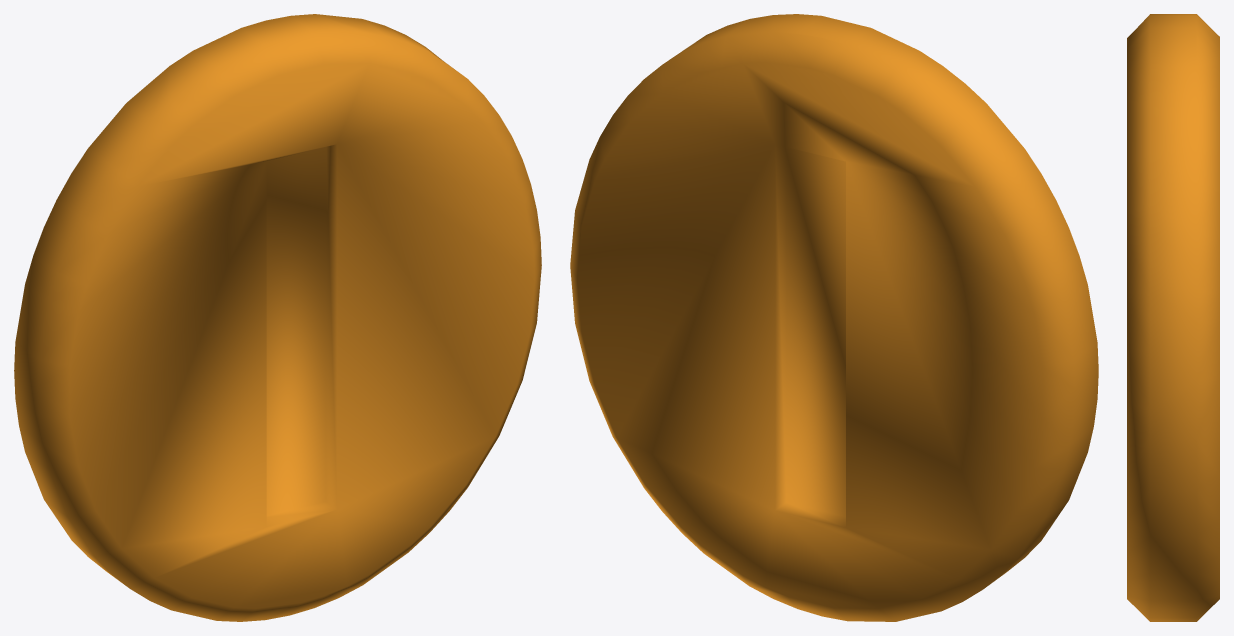
The model's file is gold_coin.glb.
The picture shows the model from 3 angles, left to right: view 1: azimuth 30°, elevation 25°; view 2: azimuth 150°, elevation 25°; view 3: azimuth 270°, elevation 25°; orthographic projection. The views are drawn at different scales.
Visible parts, largest first — view 1: Cylinder; view 2: Cylinder; view 3: Cylinder.
Boxes of the visible parts, <box> form: Cylinder: <box>14,14,541,621</box>; Cylinder: <box>570,14,1098,621</box>; Cylinder: <box>1127,14,1219,621</box>.
Bounding box in the file's own units: 1.83 × 2 × 0.3.
